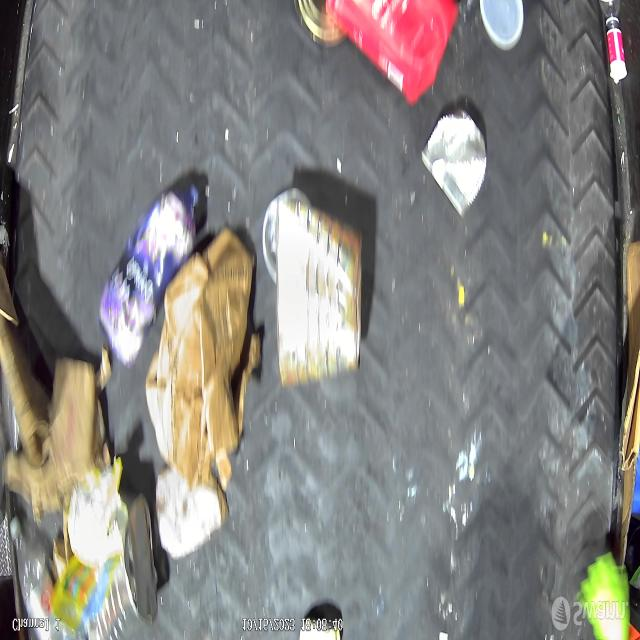can: (424, 110, 488, 219)
plastic_bottle: (16, 520, 64, 640)
